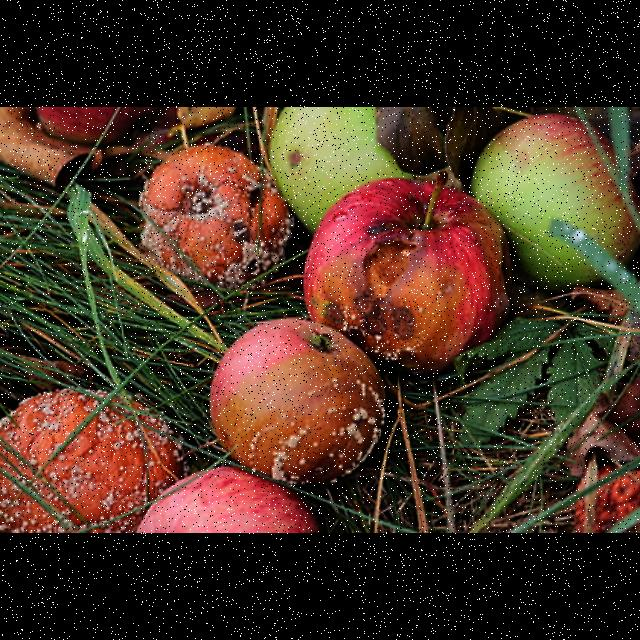Apel Segar: (466, 107, 640, 311), (243, 108, 444, 242)
Apel Tidak Segar: (299, 180, 533, 380), (188, 315, 400, 489), (1, 345, 196, 533), (108, 135, 310, 309)
